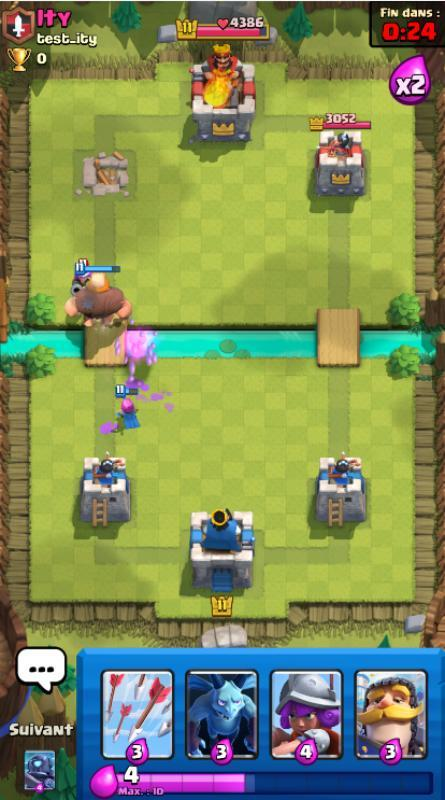archere: (115, 384, 142, 431)
geant: (64, 262, 133, 327)
mousquetaire: (71, 257, 93, 296)
